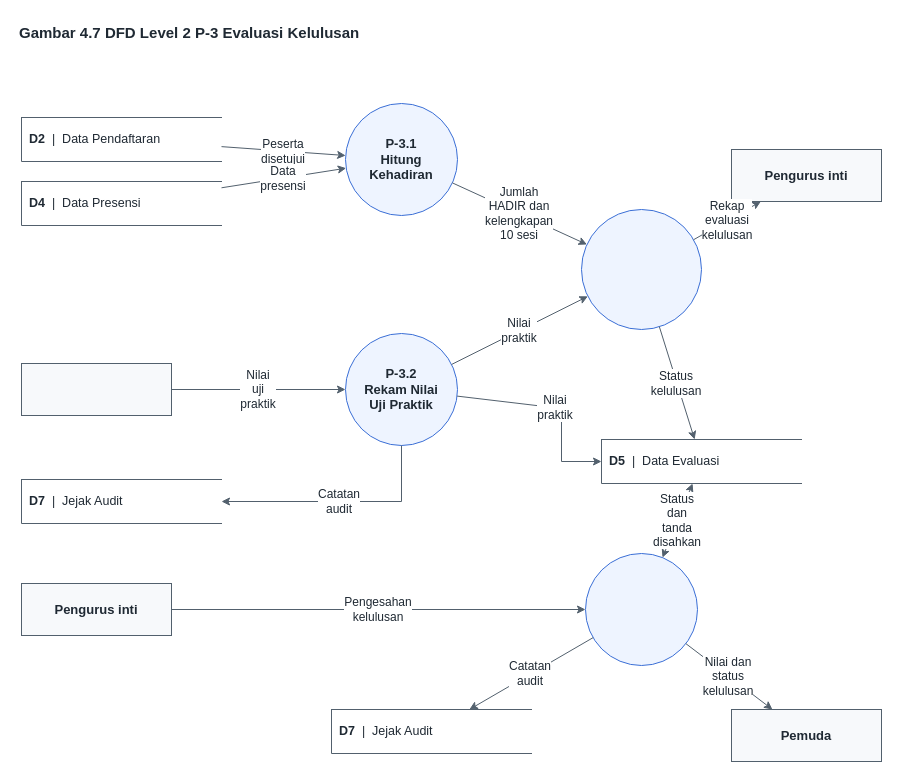
Image size: 902x779. Some labels were removed from this diagram. Each missing label, with the centre of its shape:
"Instruktur" belongs at (96,389).
"P-3.3 Tentukan Status Kelulusan" belongs at (641,269).
"P-3.4 Sahkan Kelulusan" belongs at (641,609).
